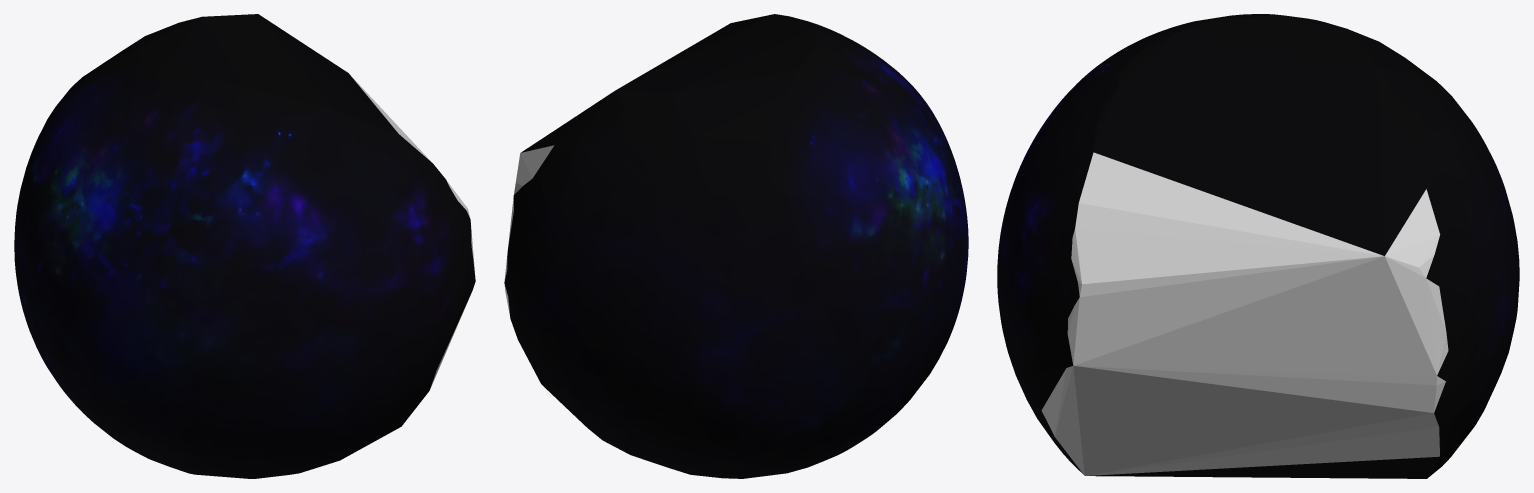
Rendered from HDRIMesh_Ella_PolySoup 1.fbx.
3 views of the same model, side by side, from view 1: azimuth 30°, elevation 25°; view 2: azimuth 150°, elevation 25°; view 3: azimuth 270°, elevation 25° (orthographic). The views are drawn at different scales.
Visible parts, largest first — view 1: Direction_Right, Direction_Back, Direction_Top, Direction_Bottom, Direction_Front; view 2: Direction_Left, Direction_Back, Direction_Top, Direction_Bottom, Direction_Front; view 3: Direction_Front, Direction_Top, Direction_Left, Direction_Right, Direction_Bottom.
Boxes of the visible parts, left/top/right/bottom form: Direction_Right: left=181, top=145, right=475, bottom=467; Direction_Back: left=14, top=100, right=199, bottom=455; Direction_Top: left=59, top=14, right=432, bottom=197; Direction_Bottom: left=114, top=427, right=400, bottom=478; Direction_Front: left=349, top=74, right=475, bottom=387; Direction_Left: left=504, top=137, right=801, bottom=462; Direction_Back: left=777, top=94, right=968, bottom=448; Direction_Top: left=521, top=14, right=920, bottom=196; Direction_Bottom: left=589, top=429, right=870, bottom=478; Direction_Front: left=504, top=145, right=554, bottom=317; Direction_Front: left=1041, top=152, right=1448, bottom=475; Direction_Top: left=1065, top=14, right=1450, bottom=255; Direction_Left: left=1426, top=86, right=1519, bottom=457; Direction_Right: left=997, top=78, right=1083, bottom=474; Direction_Bottom: left=1089, top=456, right=1450, bottom=478.
Size of the model in its own units: 84.12 by 87.88 by 94.89.
